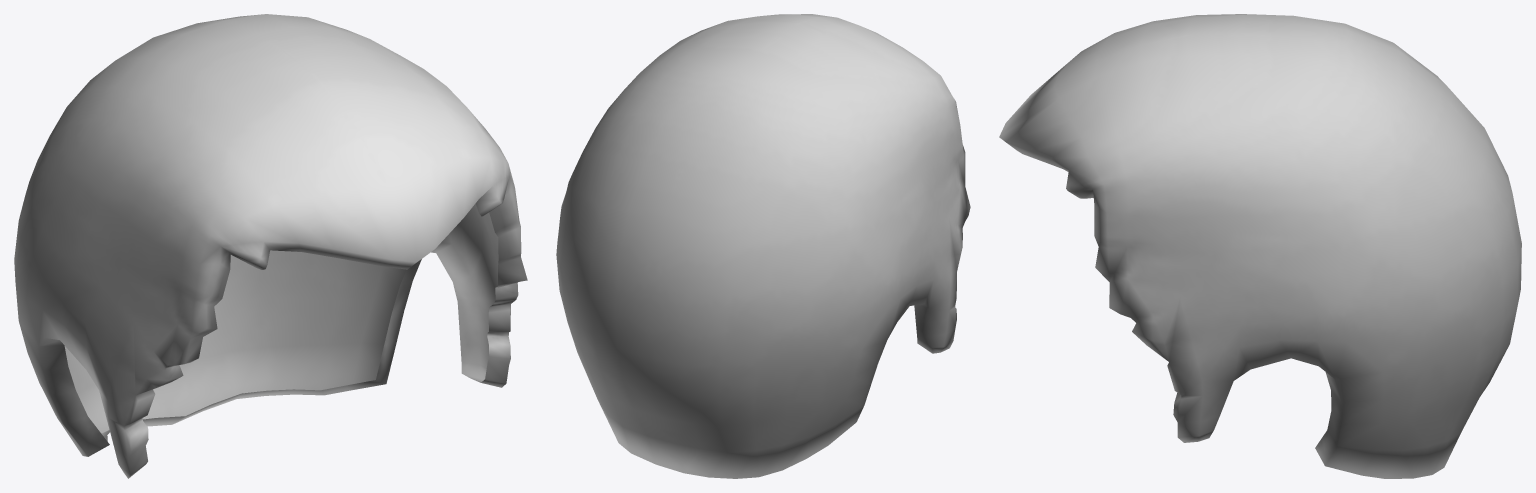
File: hair_05.glb
3 views of the same model, side by side, from view 1: azimuth 30°, elevation 25°; view 2: azimuth 150°, elevation 25°; view 3: azimuth 270°, elevation 25° (orthographic). The views are drawn at different scales.
Visible parts, largest first — view 1: hair_05; view 2: hair_05; view 3: hair_05.
Boxes of the visible parts, box(x1,y1,x2,y2) form: hair_05: box(14, 14, 527, 478); hair_05: box(556, 14, 970, 478); hair_05: box(999, 14, 1521, 478).
Bounding box in the file's own units: 0.1587 × 0.1715 × 0.1969.
Materials: 1 (1 with a texture image).
